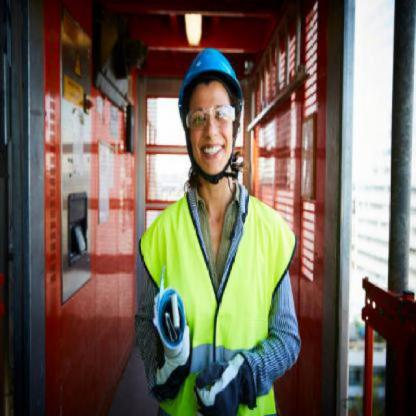blue-helm: (174, 45, 252, 111)
glass: (182, 100, 239, 132)
person: (134, 33, 306, 415)
vest-helm: (132, 185, 302, 414)
